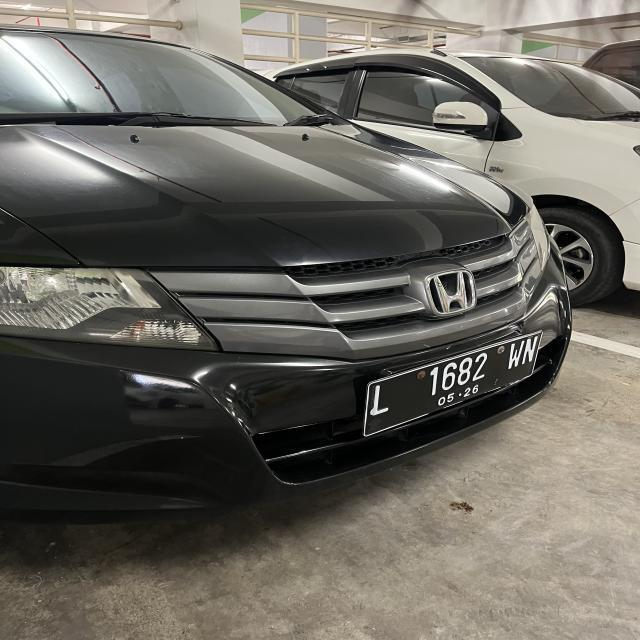1: (428, 367, 440, 399)
2: (473, 352, 488, 382)
6: (441, 362, 457, 392)
8: (458, 357, 472, 388)
L: (371, 384, 392, 418)
N: (524, 336, 538, 366)
W: (508, 341, 522, 368)
